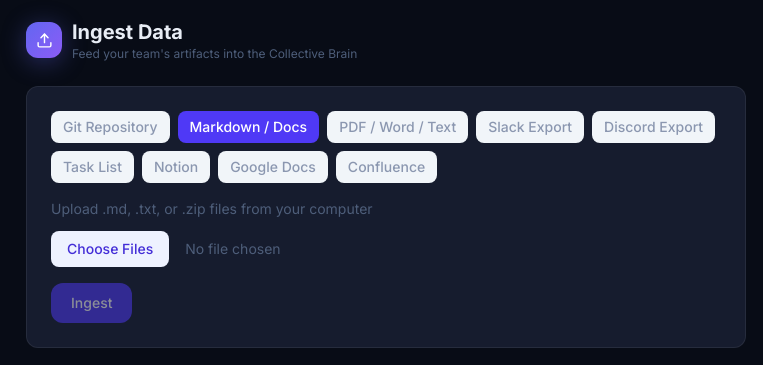
Test case: IngestPage › switches to PDF/Word source and shows file input
The image size is (763, 365).
Click the button "PDF / Word / Text": (398, 127) [327, 111, 468, 143]
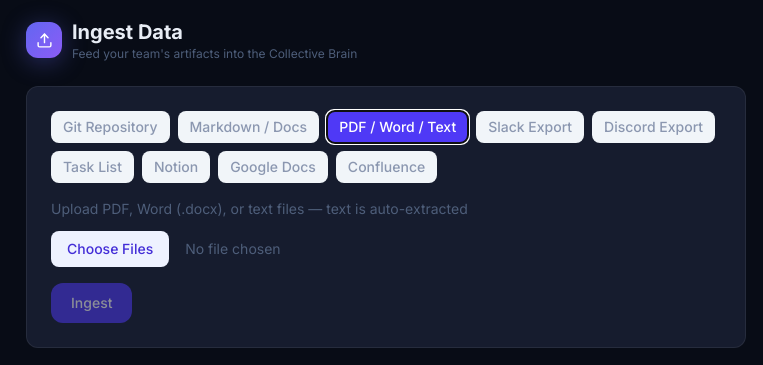
expect the file field is shown: met, box [51, 231, 721, 267]
expect the text "Upload PDF, Word (.docx), or text files — text is auto-extracted" is shown: met, box [51, 200, 468, 217]
